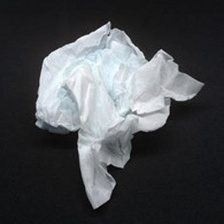tissue: (25, 14, 210, 214)
